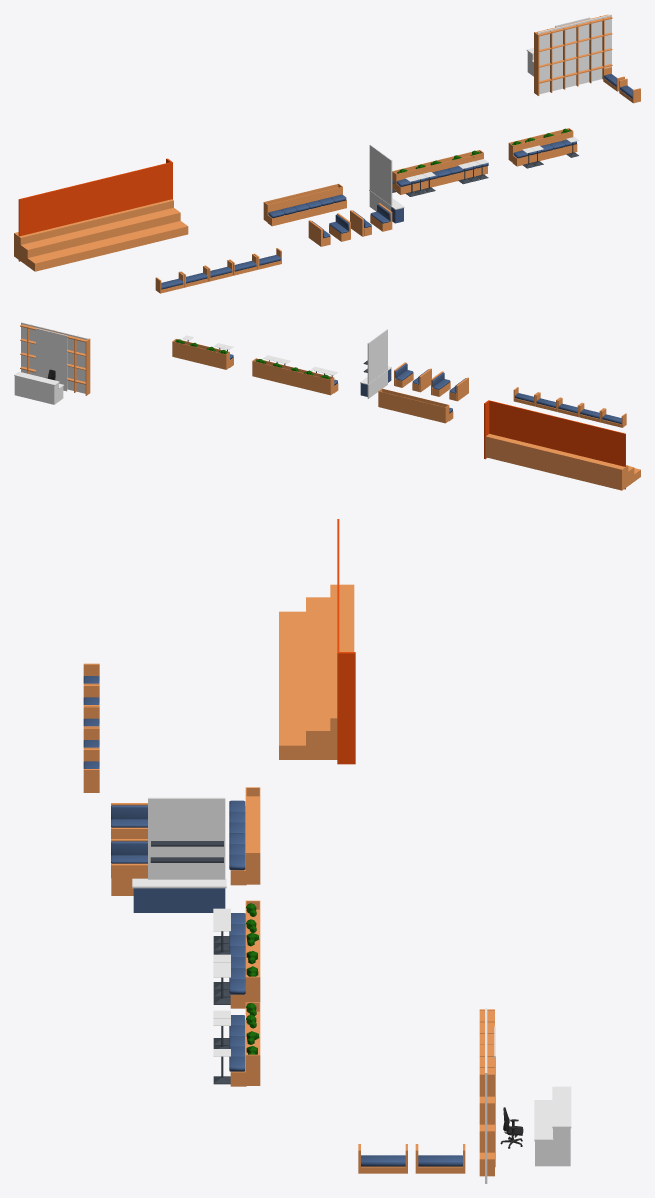
File: lobby.glb
3 renders of one model, top to bottom at view 1: azimuth 30°, elevation 25°; view 2: azimuth 150°, elevation 25°; view 3: azimuth 270°, elevation 25°, orthographic. The views are drawn at different scales.
Visible parts, largest first — view 1: Cube.006, Wall_Parition.003, Wall_Parition.001, Wood, Booth_seating.009, Wall_Parition.002, Plant_Deco.002, Plant_Deco, Booth_seating, Plant_Deco.001, Booth_seating.002, Booth_seating_cusion.002 (+5 smaller); view 2: Wall_Parition.003, Cube.006, Wall_Parition, Plant_Deco, Wall_Parition.001, Plant_Deco.002, Booth_seating.009, Reception_Desk, Wall_Parition.002, Plant_Deco.001, Wood, Booth_seating.005 (+3 smaller); view 3: Cube.006, Wall_Parition.002, Coffee_counter, Reception_Desk, Wall_Parition.003, Wood, Booth_seating.009, Plant_Deco.002, Booth_seating_cusion, Booth_seating_cusion.002, Plant_Deco, Booth_seating.003 (+5 smaller).
Part boxes in pixels (x1,y1,x2,y2): Cube.006: (14,199,188,271); Wall_Parition.003: (18,158,172,261); Wall_Parition.001: (537,14,611,94); Wood: (534,14,612,95); Booth_seating.009: (155,248,281,293); Wall_Parition.002: (369,144,392,211); Plant_Deco.002: (263,183,342,222); Plant_Deco: (392,150,483,190); Booth_seating: (396,166,487,194); Plant_Deco.001: (508,128,573,162); Booth_seating.002: (267,200,346,226); Booth_seating_cusion.002: (268,194,346,218); Wall_Parition.003: (484,400,625,489); Cube.006: (485,434,640,490); Wall_Parition: (36,328,67,391); Plant_Deco: (252,358,334,395); Wall_Parition.001: (21,322,87,393); Plant_Deco.002: (378,388,449,423); Booth_seating.009: (513,387,626,427); Reception_Desk: (14,371,64,404); Wall_Parition.002: (367,329,387,398); Plant_Deco.001: (172,339,229,369); Wood: (20,324,90,395); Booth_seating.005: (394,362,413,387); Cube.006: (279,584,354,759); Wall_Parition.002: (148,797,225,879); Coffee_counter: (132,878,226,912); Reception_Desk: (534,1086,571,1166); Wall_Parition.003: (337,519,355,764); Wood: (479,1009,494,1176); Booth_seating.009: (83,663,99,792); Plant_Deco.002: (245,787,260,884); Booth_seating_cusion: (229,913,245,994); Booth_seating_cusion.002: (229,800,245,870); Plant_Deco: (245,900,260,1002); Booth_seating.003: (415,1144,465,1173).
Bounding box in the file's own units: 37.78 × 3.53 × 14.06.
